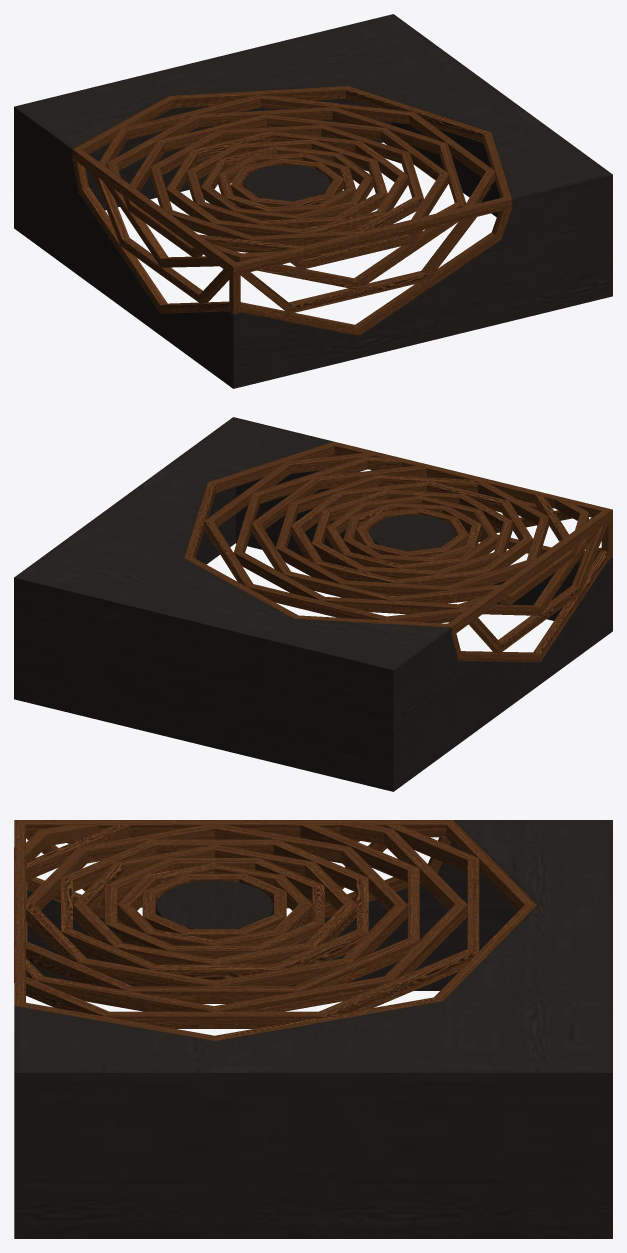
File: modern_coffee_table_02.glb
The picture shows the model from 3 angles, top to bottom: view 1: azimuth 30°, elevation 25°; view 2: azimuth 150°, elevation 25°; view 3: azimuth 270°, elevation 25°; orthographic projection. The views are drawn at different scales.
Parts seen in each view (by area): view 1: modern_coffee_table_02; view 2: modern_coffee_table_02; view 3: modern_coffee_table_02.
Boxes of the visible parts, left/top/right/bottom form: modern_coffee_table_02: left=14, top=14, right=612, bottom=388; modern_coffee_table_02: left=14, top=417, right=612, bottom=791; modern_coffee_table_02: left=14, top=820, right=612, bottom=1238.
Size of the model in its own units: 1.2 by 0.3692 by 1.2.
2 materials, 2 textured.
